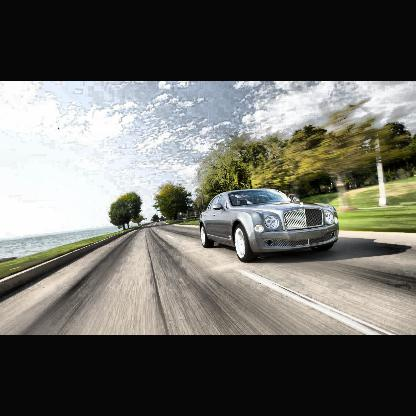Bentley Mulsanne Sedan 2011: (199, 188, 341, 263)
